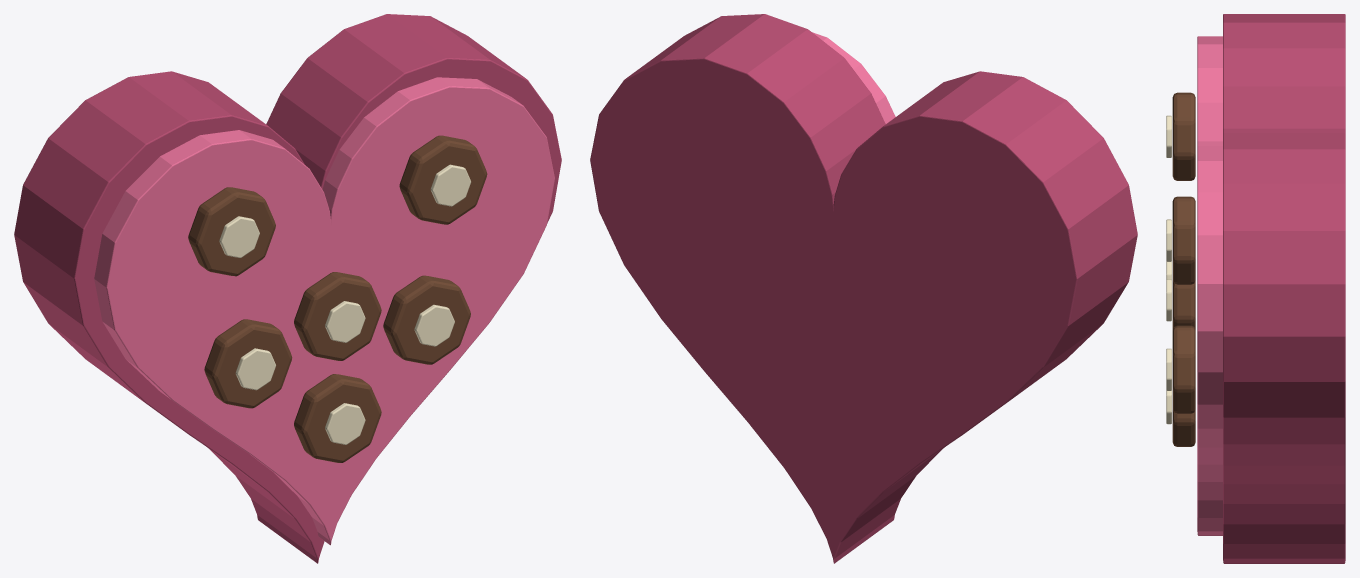
The model's file is P003_heart_chocolates.glb.
The picture shows the model from 3 angles, left to right: view 1: azimuth 30°, elevation 25°; view 2: azimuth 150°, elevation 25°; view 3: azimuth 270°, elevation 25°; orthographic projection.
Parts seen in each view (by area): view 1: P003_lidface_002, P003_heart_box_001, P003_chocolate_011, P003_chocolate_005, P003_chocolate_009, P003_chocolate_013, P003_chocolate_003, P003_chocolate_007, P003_swirl_012, P003_swirl_004, P003_swirl_006, P003_swirl_010 (+2 smaller); view 2: P003_heart_box_001, P003_lidface_002; view 3: P003_heart_box_001, P003_lidface_002, P003_chocolate_005, P003_chocolate_011, P003_chocolate_003, P003_chocolate_007, P003_chocolate_013, P003_swirl_006, P003_swirl_012, P003_swirl_004, P003_swirl_008.
Boxes of the visible parts, left/top/right/bottom form: P003_lidface_002: left=94, top=77, right=554, bottom=545; P003_heart_box_001: left=14, top=14, right=561, bottom=563; P003_chocolate_011: left=383, top=275, right=470, bottom=364; P003_chocolate_005: left=399, top=135, right=487, bottom=224; P003_chocolate_009: left=204, top=319, right=292, bottom=408; P003_chocolate_013: left=294, top=374, right=381, bottom=462; P003_chocolate_003: left=188, top=187, right=275, bottom=276; P003_chocolate_007: left=294, top=272, right=381, bottom=360; P003_swirl_012: left=414, top=304, right=454, bottom=346; P003_swirl_004: left=219, top=216, right=259, bottom=257; P003_swirl_006: left=430, top=164, right=470, bottom=206; P003_swirl_010: left=235, top=348, right=275, bottom=390; P003_heart_box_001: left=590, top=14, right=1137, bottom=563; P003_lidface_002: left=812, top=32, right=895, bottom=123; P003_heart_box_001: left=1223, top=14, right=1345, bottom=563; P003_lidface_002: left=1197, top=36, right=1222, bottom=535; P003_chocolate_005: left=1172, top=196, right=1195, bottom=284; P003_chocolate_011: left=1172, top=325, right=1195, bottom=413; P003_chocolate_003: left=1172, top=92, right=1195, bottom=180; P003_chocolate_007: left=1172, top=281, right=1195, bottom=329; P003_chocolate_013: left=1172, top=410, right=1195, bottom=446; P003_swirl_006: left=1166, top=219, right=1171, bottom=261; P003_swirl_012: left=1166, top=348, right=1171, bottom=390; P003_swirl_004: left=1166, top=115, right=1171, bottom=157; P003_swirl_008: left=1166, top=279, right=1171, bottom=321.
Bounding box in the file's own units: 0.3 × 0.279 × 0.095.
